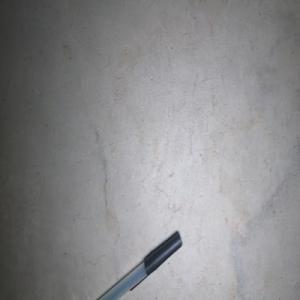Pen: (98, 231, 181, 300)
